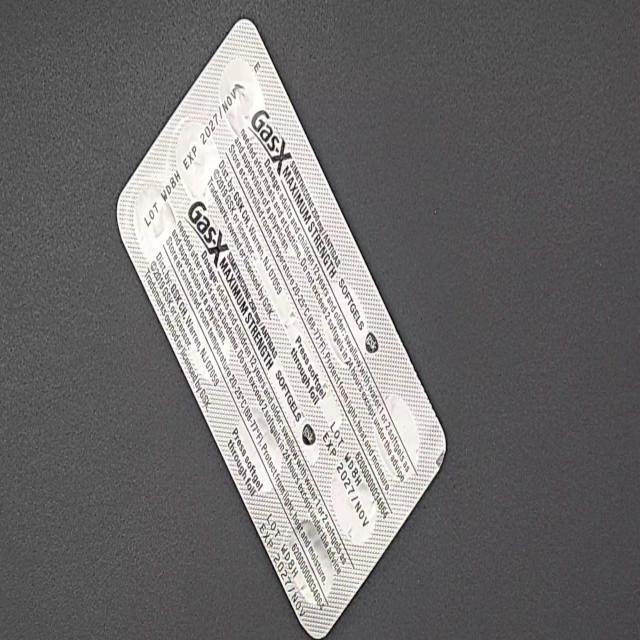no defect: (9, 19, 38, 77)
